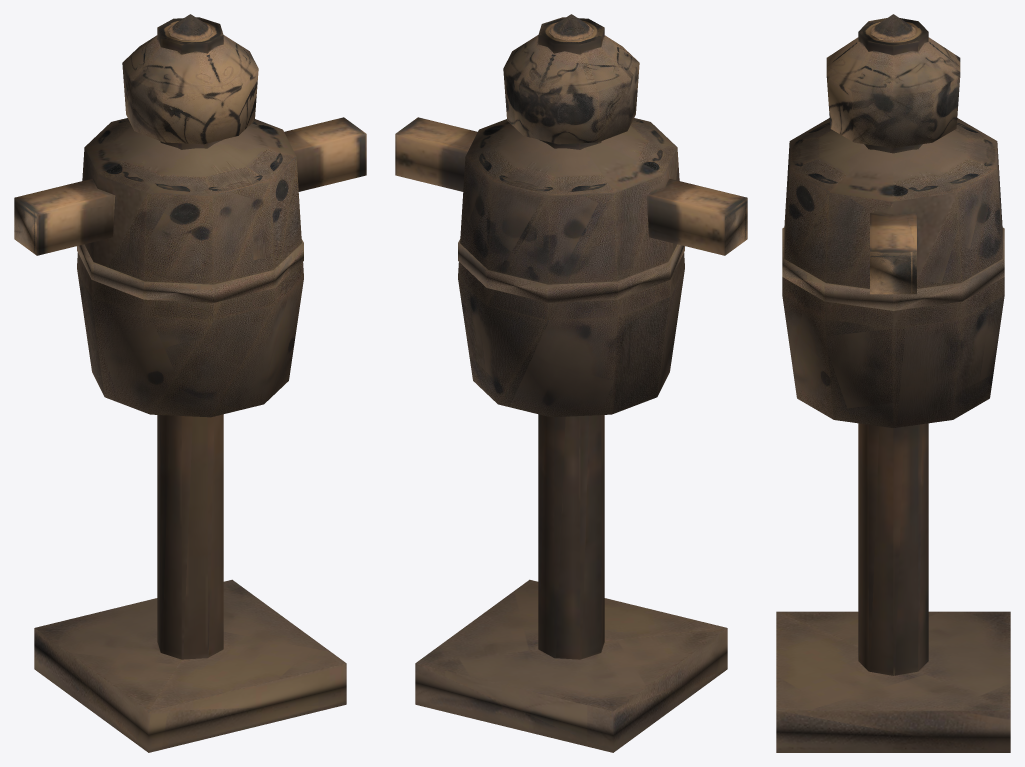
Rendered from training_dummy.glb.
The picture shows the model from 3 angles, left to right: view 1: azimuth 30°, elevation 25°; view 2: azimuth 150°, elevation 25°; view 3: azimuth 270°, elevation 25°; orthographic projection. The views are drawn at different scales.
Parts seen in each view (by area): view 1: training_dummy; view 2: training_dummy; view 3: training_dummy.
Boxes of the visible parts, bbox=[...] form: training_dummy: bbox=[14, 14, 366, 752]; training_dummy: bbox=[395, 14, 747, 752]; training_dummy: bbox=[776, 14, 1010, 752].
Size of the model in its own units: 1 by 1.95 by 0.6.
1 material, 1 textured.
